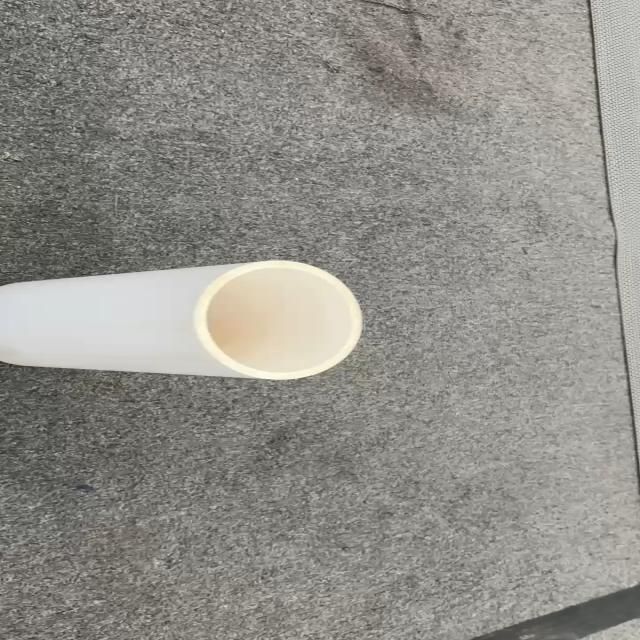coral: (0, 257, 364, 380)
